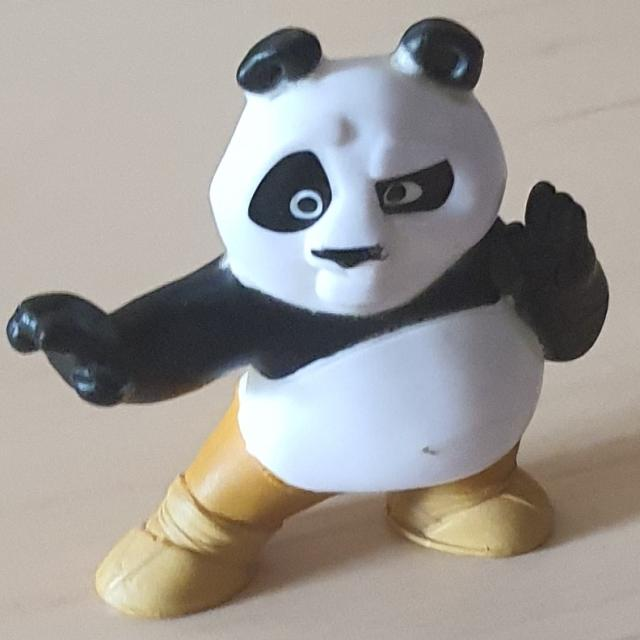Panda: (5, 16, 609, 619)
